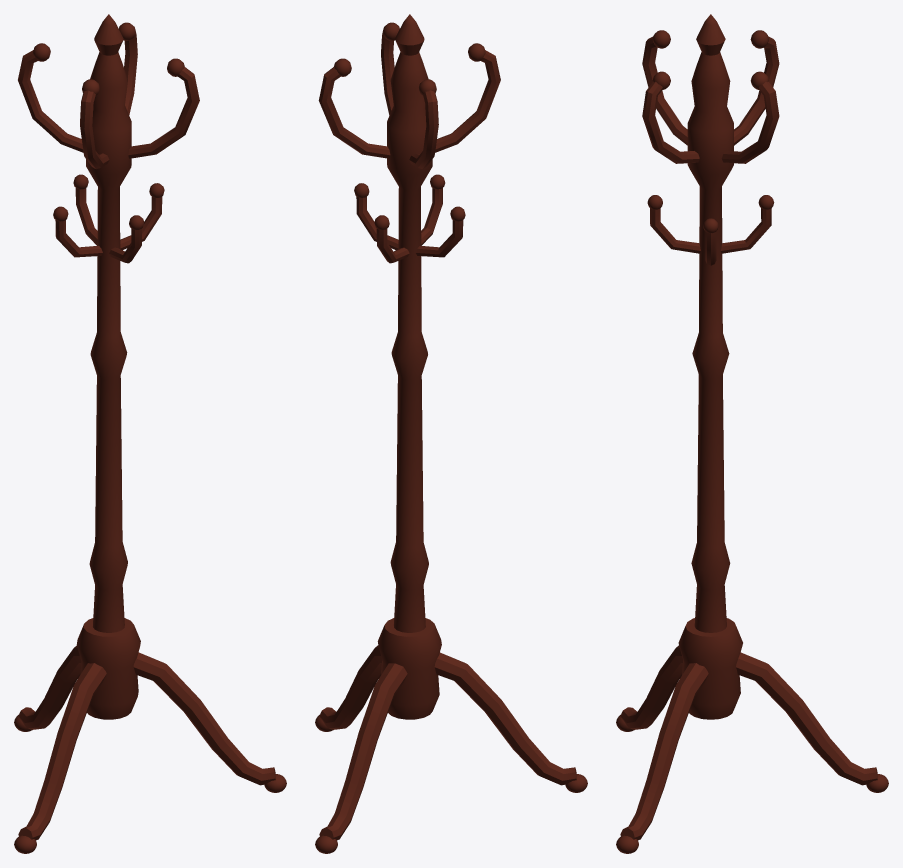
The model's file is CoatRack.glb.
3 views of the same model, side by side, from view 1: azimuth 30°, elevation 25°; view 2: azimuth 150°, elevation 25°; view 3: azimuth 270°, elevation 25° (orthographic).
Visible parts, largest first — view 1: CoatRack_Body; view 2: CoatRack_Body; view 3: CoatRack_Body.
Part boxes in pixels (x1,y1,x2,y2): CoatRack_Body: (14,14,286,853); CoatRack_Body: (315,14,587,853); CoatRack_Body: (616,14,888,853).
Size of the model in its own units: 0.6735 by 1.86 by 0.59.
